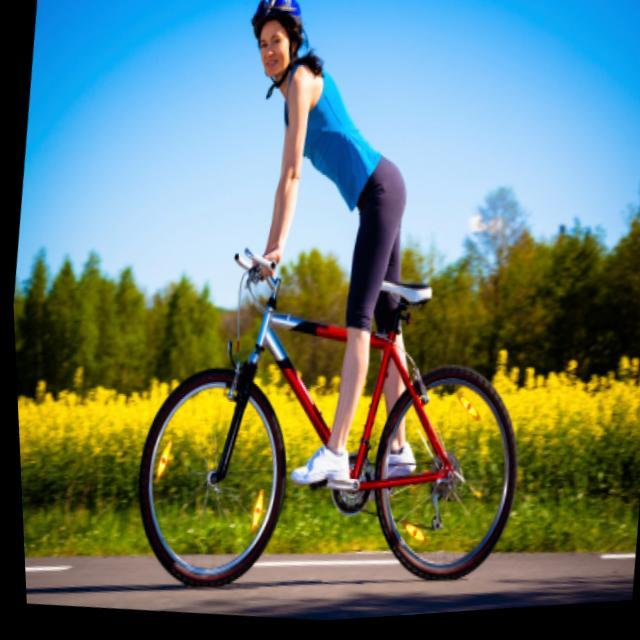Helmet: (250, 0, 311, 85)
